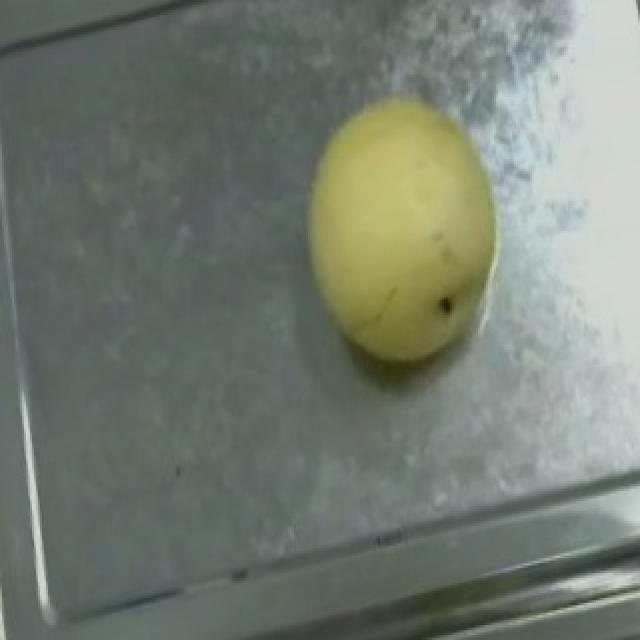Fruit: (264, 62, 538, 402)
